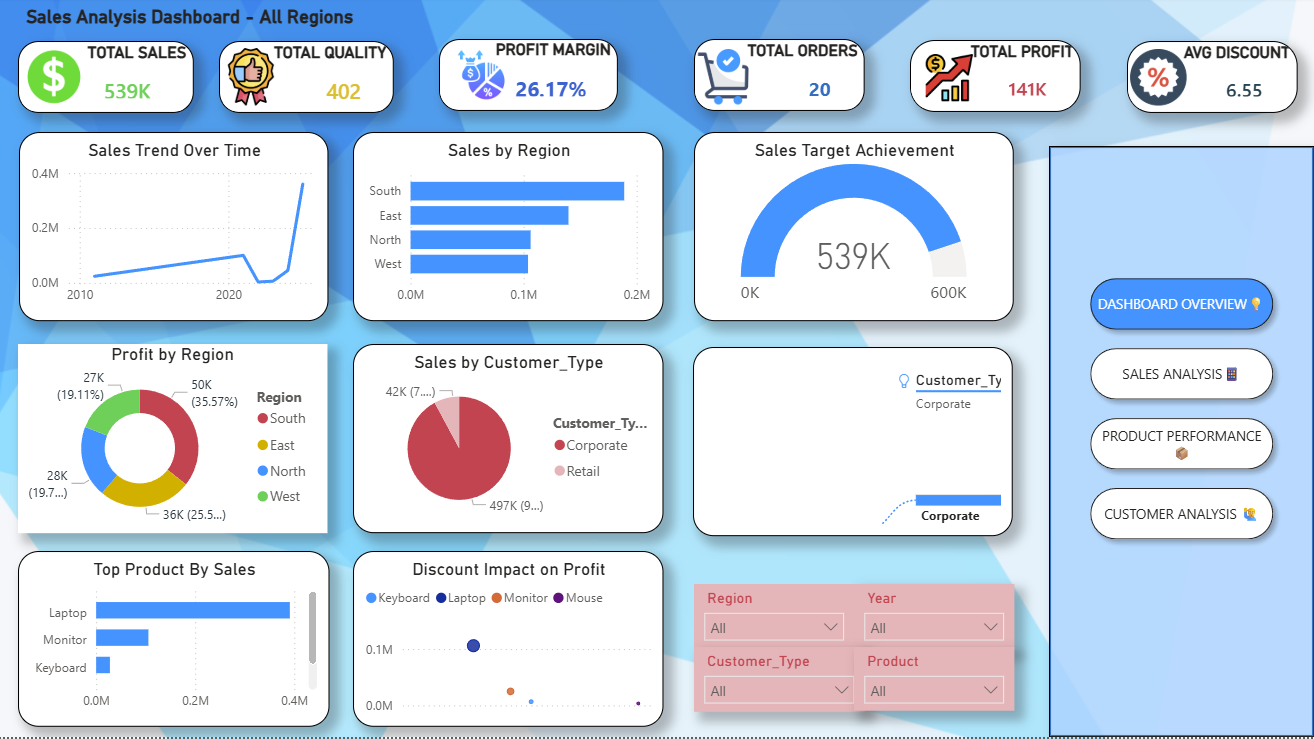

What the dashboard file says about the page in this screenshot:
{"tool":"powerbi","page":{"name":"DASHBOARD OVERVIEW💡","canvas":[1280,720],"ordinal":0},"visuals":[{"type":"cardVisual","title":"TOTAL SALES","fields":{"Data":["Sum(PRAVEENDATA(Sheet1).Sales)"]},"box":[19.8,43.1,170.8,69.9],"z":0},{"type":"cardVisual","title":"      TOTAL PROFIT","fields":{"Data":["Sum(PRAVEENDATA(Sheet1).Profit)"]},"box":[887.1,41.8,166.3,70],"z":1000},{"type":"cardVisual","title":"TOTAL QUALITY","fields":{"Data":["Sum(PRAVEENDATA(Sheet1).Quantity)"]},"box":[214.8,43.1,169.9,69.9],"z":2000},{"type":"cardVisual","title":"TOTAL ORDERS","fields":{"Data":["PRAVEENDATA(Sheet1).TOTAL ORDERS"]},"box":[677,40.9,166.3,70],"z":3000},{"type":"image","box":[19.8,50.9,69.9,54.3],"z":4000},{"type":"image","box":[677.1,50.9,56.9,54.3],"z":5000},{"type":"image","box":[214.8,49.2,61.2,56.1],"z":6000},{"type":"image","box":[878.1,55.2,94,45.7],"z":7000},{"type":"lineChart","title":"Sales Trend Over Time","fields":{"Category":["PRAVEENDATA(Sheet1).Year"],"Y":["Sum(PRAVEENDATA(Sheet1).Sales)"]},"box":[20.7,131.1,301,183.7],"z":8000},{"type":"clusteredBarChart","title":" Sales by Region","fields":{"Category":["PRAVEENDATA(Sheet1).Region"],"Y":["Sum(PRAVEENDATA(Sheet1).Sales)"]},"box":[345,131.1,301.9,183.7],"z":9000},{"type":"barChart","title":"Top Product By Sales","fields":{"Category":["PRAVEENDATA(Sheet1).Product"],"Y":["Sum(PRAVEENDATA(Sheet1).Sales)"]},"box":[19.8,539.1,302.7,170.8],"z":10000},{"type":"donutChart","title":"Profit by Region","fields":{"Category":["PRAVEENDATA(Sheet1).Region"],"Y":["Sum(PRAVEENDATA(Sheet1).Profit)"]},"box":[19.8,337.3,301,183.7],"z":11000},{"type":"pieChart","title":" Sales by Customer_Type","fields":{"Category":["PRAVEENDATA(Sheet1).Customer_Type"],"Y":["Sum(PRAVEENDATA(Sheet1).Sales)"]},"box":[345.3,337.5,301.5,183.8],"z":12000},{"type":"scatterChart","title":" Discount Impact on  Profit","fields":{"X":["Sum(PRAVEENDATA(Sheet1).Discount_%)"],"Y":["Sum(PRAVEENDATA(Sheet1).Profit)"],"Size":["Sum(PRAVEENDATA(Sheet1).Sales)"],"Series":["PRAVEENDATA(Sheet1).Product"]},"box":[345.3,538.8,301.5,171.2],"z":13000},{"type":"slicer","fields":{"Values":["PRAVEENDATA(Sheet1).Year"]},"box":[832.6,570.9,155.6,64.2],"z":14000},{"type":"slicer","fields":{"Values":["PRAVEENDATA(Sheet1).Region"]},"box":[677,570.9,155.6,63.2],"z":15000},{"type":"slicer","fields":{"Values":["PRAVEENDATA(Sheet1).Customer_Type"]},"box":[677,632.2,166.3,63.2],"z":16000},{"type":"cardVisual","title":"PROFIT MARGIN","fields":{"Data":["PRAVEENDATA(Sheet1).profit margin"]},"box":[428.9,40.9,174.1,70],"z":17000},{"type":"cardVisual","title":"AVG DISCOUNT","fields":{"Data":["PRAVEENDATA(Sheet1).AVERAGE DISCOUNT"]},"box":[1098,43.1,165.6,69.9],"z":18000},{"type":"image","box":[445.9,50.9,49.2,50],"z":19000},{"type":"image","box":[1098,50.9,60.4,55.2],"z":20000},{"type":"gauge","title":"Sales Target Achievement","fields":{"Y":["Sum(PRAVEENDATA(Sheet1).Sales)"],"MaxValue":["PRAVEENDATA(Sheet1).sales target"]},"box":[677.2,131.5,310.7,183.9],"z":21000},{"type":"decompositionTreeVisual","fields":{"Analyze":["Sum(PRAVEENDATA(Sheet1).Sales)"],"ExplainBy":["PRAVEENDATA(Sheet1).Customer_Type","PRAVEENDATA(Sheet1).Product","PRAVEENDATA(Sheet1).Year","PRAVEENDATA(Sheet1).Region","PRAVEENDATA(Sheet1).Salesperson"]},"box":[676,340.4,311.2,183.8],"z":22000},{"type":"slicer","fields":{"Values":["PRAVEENDATA(Sheet1).Product"]},"box":[832.6,632.2,155.6,62.2],"z":23000},{"type":"shape","box":[1022.2,144.9,257.8,574.8],"z":25000},{"type":"pageNavigator","box":[1053.4,264.6,196.5,274.3],"z":26000},{"type":"textbox","box":[22.4,8.8,423.1,25.3],"z":27001}]}

Visuals, with their boxes in screenshot pixels (x1, y1, x2, y2), scaled from the page's 1280x720 canvas onto the 1314x739 screenshot:
"TOTAL SALES" cardVisual: (20, 44, 196, 116)
"      TOTAL PROFIT" cardVisual: (911, 43, 1081, 115)
"TOTAL QUALITY" cardVisual: (221, 44, 395, 116)
"TOTAL ORDERS" cardVisual: (695, 42, 866, 114)
image: (20, 52, 92, 108)
image: (695, 52, 753, 108)
image: (221, 50, 283, 108)
image: (901, 57, 998, 104)
"Sales Trend Over Time" lineChart: (21, 135, 330, 323)
" Sales by Region" clusteredBarChart: (354, 135, 664, 323)
"Top Product By Sales" barChart: (20, 553, 331, 729)
"Profit by Region" donutChart: (20, 346, 329, 535)
" Sales by Customer_Type" pieChart: (354, 346, 664, 535)
" Discount Impact on  Profit" scatterChart: (354, 553, 664, 729)
slicer - PRAVEENDATA(Sheet1).Year: (855, 586, 1014, 652)
slicer - PRAVEENDATA(Sheet1).Region: (695, 586, 855, 651)
slicer - PRAVEENDATA(Sheet1).Customer_Type: (695, 649, 866, 714)
"PROFIT MARGIN" cardVisual: (440, 42, 619, 114)
"AVG DISCOUNT" cardVisual: (1127, 44, 1297, 116)
image: (458, 52, 508, 104)
image: (1127, 52, 1189, 109)
"Sales Target Achievement" gauge: (695, 135, 1014, 324)
decompositionTreeVisual - Sum(PRAVEENDATA(Sheet1).Sales) x PRAVEENDATA(Sheet1).Customer_Type: (694, 349, 1013, 538)
slicer - PRAVEENDATA(Sheet1).Product: (855, 649, 1014, 713)
shape: (1049, 149, 1313, 738)
pageNavigator: (1081, 272, 1283, 553)
textbox: (23, 9, 457, 35)
